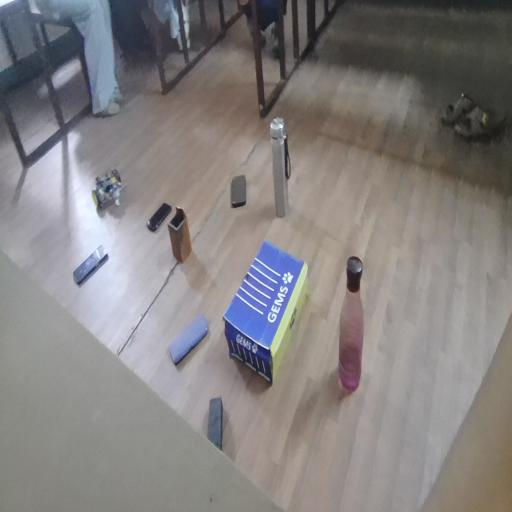Bottle: (338, 258, 382, 407)
car: (84, 168, 134, 206)
